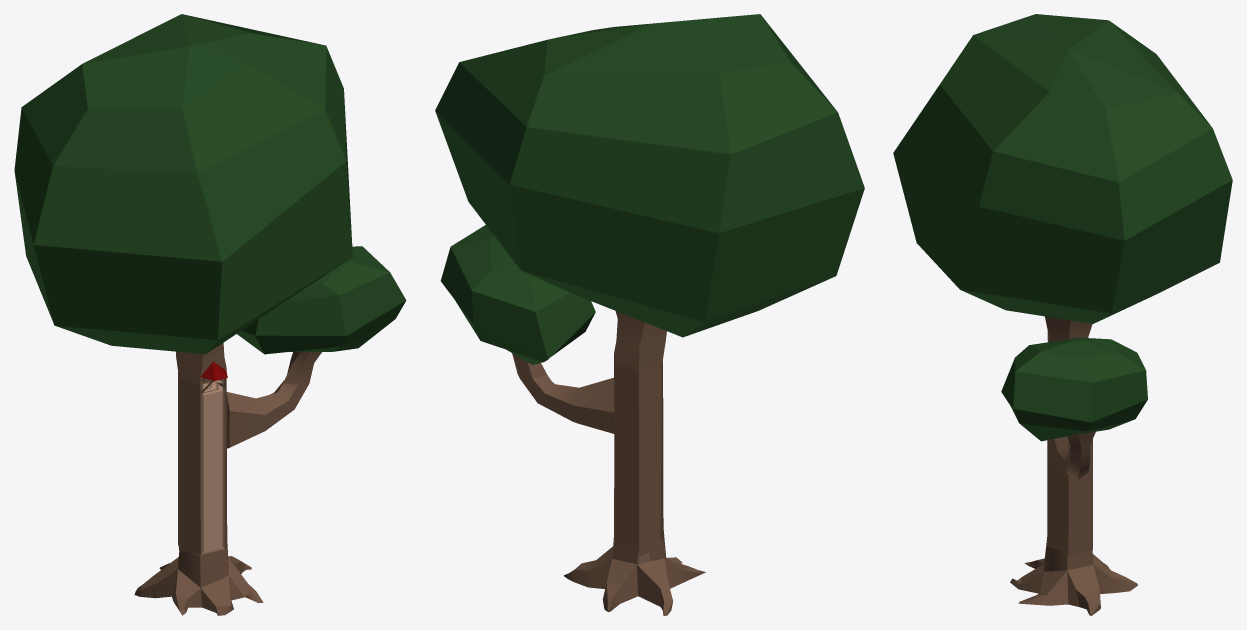
Rendered from arbre_v02.fbx.
3 views of the same model, side by side, from view 1: azimuth 30°, elevation 25°; view 2: azimuth 150°, elevation 25°; view 3: azimuth 270°, elevation 25° (orthographic). The views are drawn at different scales.
Visible parts, largest first — view 1: feuillage2, feuillage1, racines, couche1_part1, branche1, couche3_dedans, branche2, couche2; view 2: feuillage2, feuillage1, racines, couche1_part3, couche1_part2, branche1, branche2; view 3: feuillage2, feuillage1, racines, couche1_part4, couche1_part5, branche1, branche2.
Boxes of the visible parts, x1=… form: feuillage2: x1=14, y1=14, x2=352, y2=354; feuillage1: x1=237, y1=246, x2=406, y2=354; racines: x1=134, y1=544, x2=263, y2=615; couche1_part1: x1=178, y1=377, x2=200, y2=554; branche1: x1=226, y1=352, x2=321, y2=448; couche3_dedans: x1=203, y1=380, x2=222, y2=551; branche2: x1=176, y1=343, x2=226, y2=384; couche2: x1=178, y1=379, x2=224, y2=558; feuillage2: x1=435, y1=14, x2=864, y2=337; feuillage1: x1=440, y1=225, x2=595, y2=364; racines: x1=564, y1=531, x2=705, y2=615; couche1_part3: x1=614, y1=361, x2=638, y2=547; couche1_part2: x1=638, y1=363, x2=661, y2=550; branche1: x1=512, y1=353, x2=614, y2=433; branche2: x1=614, y1=311, x2=666, y2=370; feuillage2: x1=893, y1=14, x2=1232, y2=323; feuillage1: x1=1001, y1=337, x2=1147, y2=441; racines: x1=1010, y1=537, x2=1137, y2=615; couche1_part4: x1=1068, y1=441, x2=1092, y2=556; couche1_part5: x1=1047, y1=440, x2=1068, y2=551; branche1: x1=1047, y1=431, x2=1095, y2=479; branche2: x1=1045, y1=316, x2=1092, y2=342.
Size of the model in its own units: 19.35 by 27.25 by 15.61.
